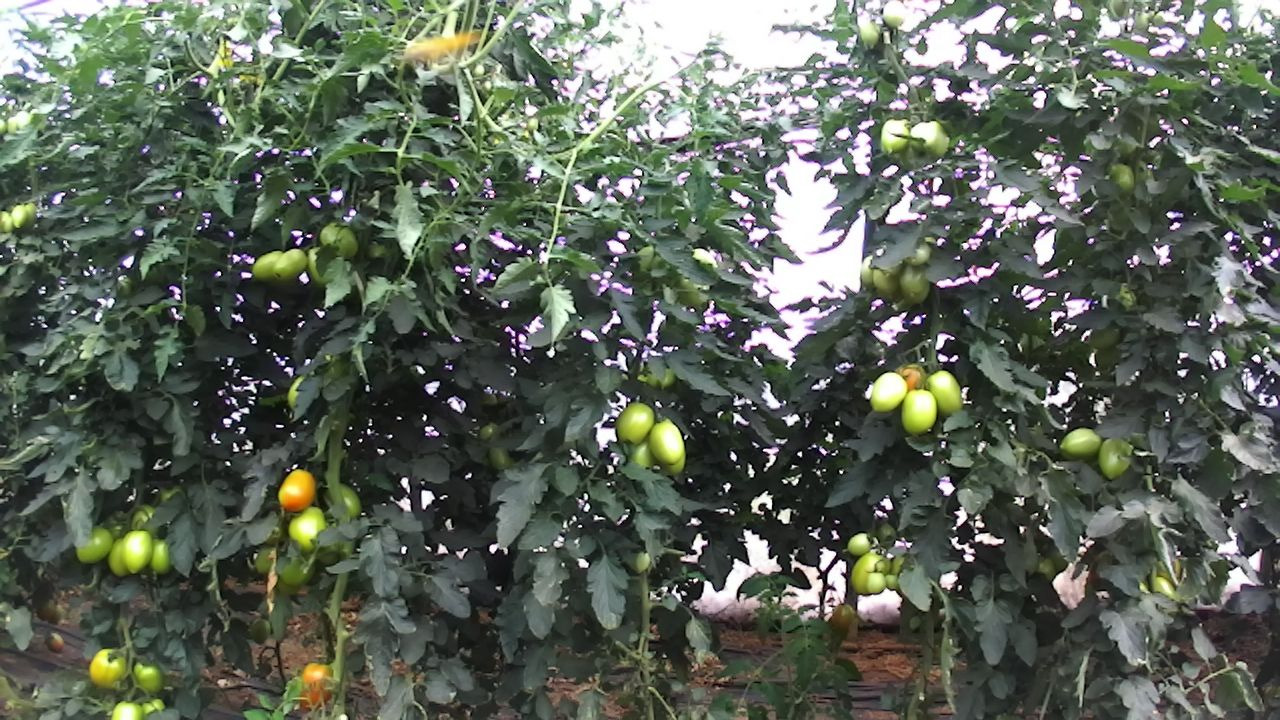tomato: (847, 544, 893, 596), (285, 503, 329, 557), (898, 385, 939, 439), (923, 366, 965, 418), (295, 657, 335, 710), (611, 402, 657, 448), (275, 467, 317, 515), (1095, 433, 1135, 483), (646, 418, 685, 469), (119, 526, 157, 577), (868, 367, 909, 414), (72, 523, 116, 566), (318, 218, 362, 260), (86, 647, 128, 691), (1057, 422, 1103, 462), (895, 260, 932, 306), (270, 245, 309, 283), (103, 534, 134, 579), (879, 115, 912, 156), (146, 535, 176, 577), (131, 660, 165, 695), (251, 247, 283, 284), (880, 0, 906, 30), (845, 530, 872, 558), (487, 442, 511, 472), (864, 568, 886, 597), (7, 202, 28, 229)
